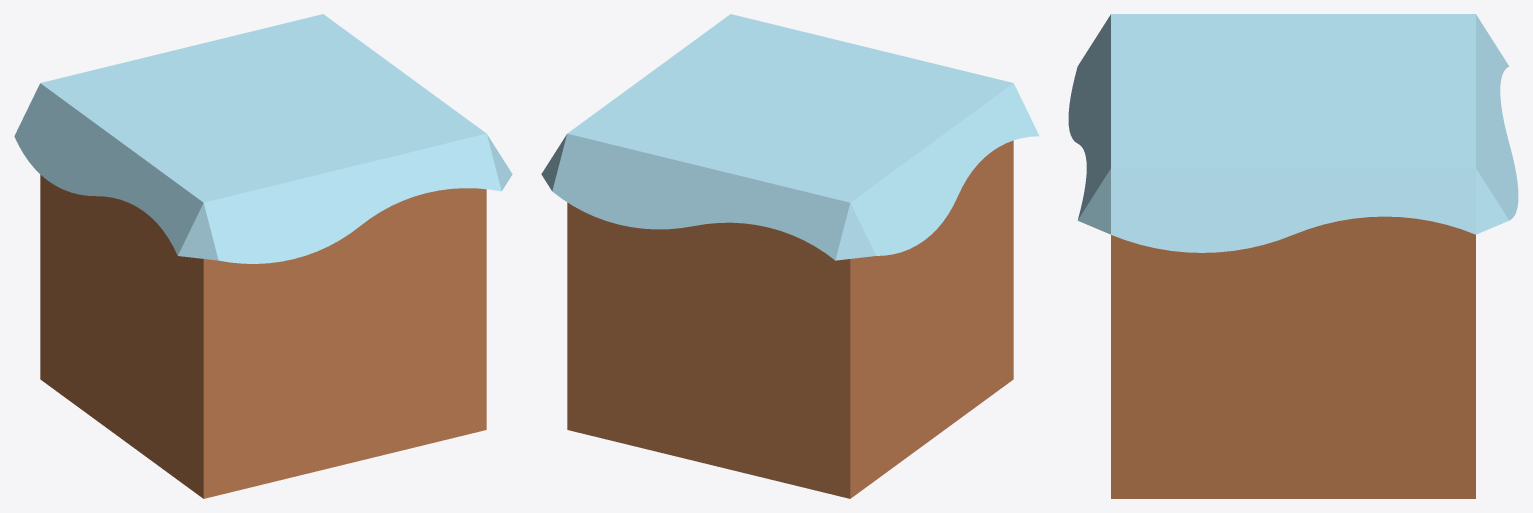
File: blockSnow.dae
3 renders of one model, left to right at view 1: azimuth 30°, elevation 25°; view 2: azimuth 150°, elevation 25°; view 3: azimuth 270°, elevation 25°, orthographic. The views are drawn at different scales.
Parts seen in each view (by area): view 1: blockSnow; view 2: blockSnow; view 3: blockSnow.
Boxes of the visible parts, <box> form: blockSnow: <box>14,14,512,498</box>; blockSnow: <box>541,14,1039,498</box>; blockSnow: <box>1068,14,1518,498</box>.
Bounding box in the file's own units: 1.23 × 1 × 1.23.
